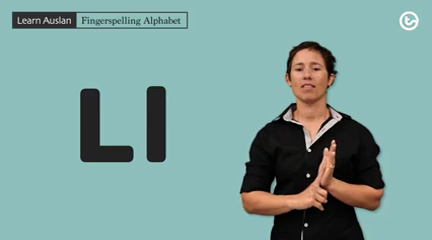L: (295, 136, 347, 214)
